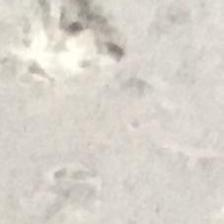Non_Crack: (24, 79, 224, 224)
